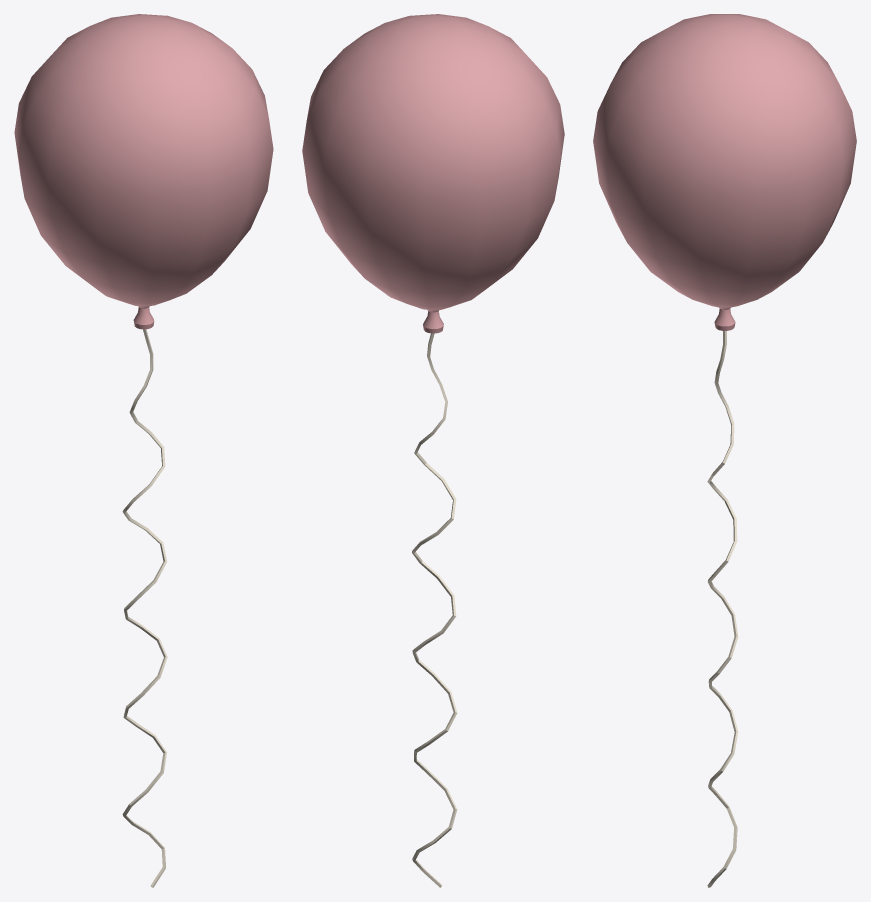
The model's file is balloon.glb.
3 renders of one model, left to right at view 1: azimuth 30°, elevation 25°; view 2: azimuth 150°, elevation 25°; view 3: azimuth 270°, elevation 25°, orthographic.
Parts seen in each view (by area): view 1: balloon, string; view 2: balloon, string; view 3: balloon, string.
Part boxes in pixels (<box>): balloon: <box>14,14,273,329</box>; string: <box>122,329,167,887</box>; balloon: <box>302,14,564,333</box>; string: <box>412,333,457,887</box>; balloon: <box>593,14,856,330</box>; string: <box>707,331,738,887</box>.
Bounding box in the file's own units: 0.2925 × 1.08 × 0.3.
